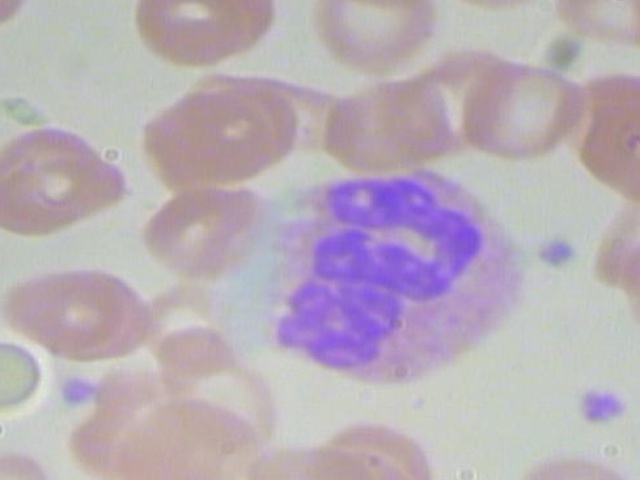Platelets: (527, 233, 578, 276), (577, 382, 627, 425), (57, 372, 99, 409)
WBC: (239, 158, 531, 388)
